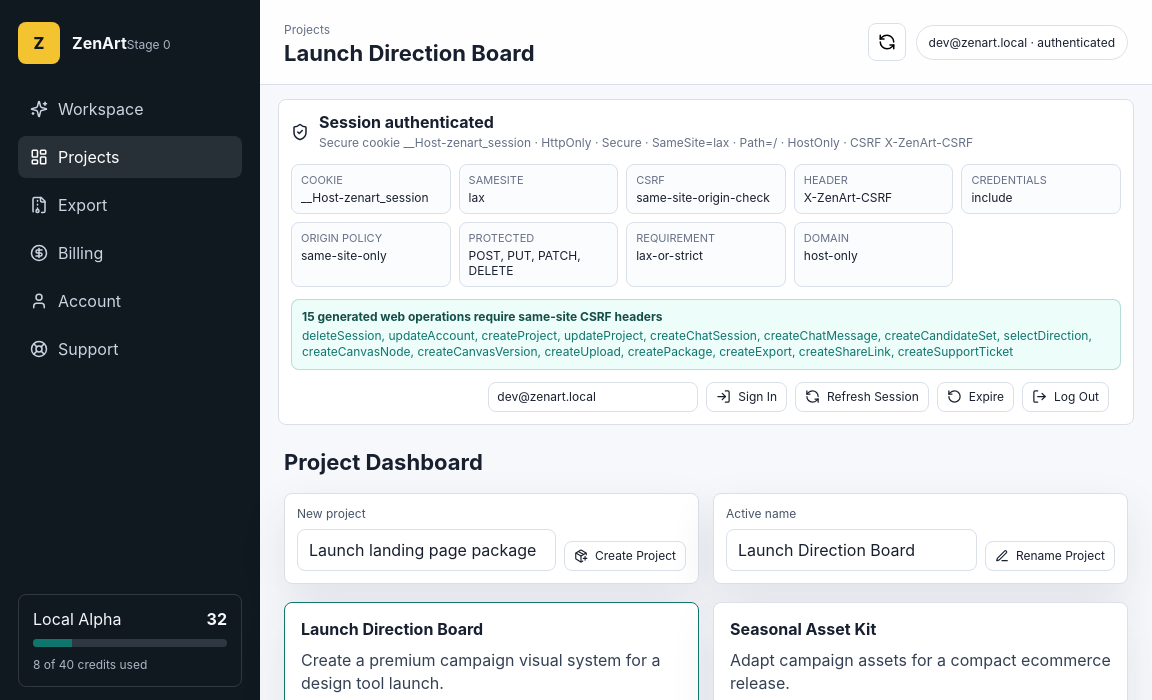
Test: WorkspaceApp user route integration smoke › guards project create and rename actions with the same-site session contract
Expected: the heading "Project Dashboard" is shown, [284, 449, 483, 475]
Replace the text in the field labelled "New project" with "Retail launch assets" at (426, 550), box [297, 529, 556, 571]
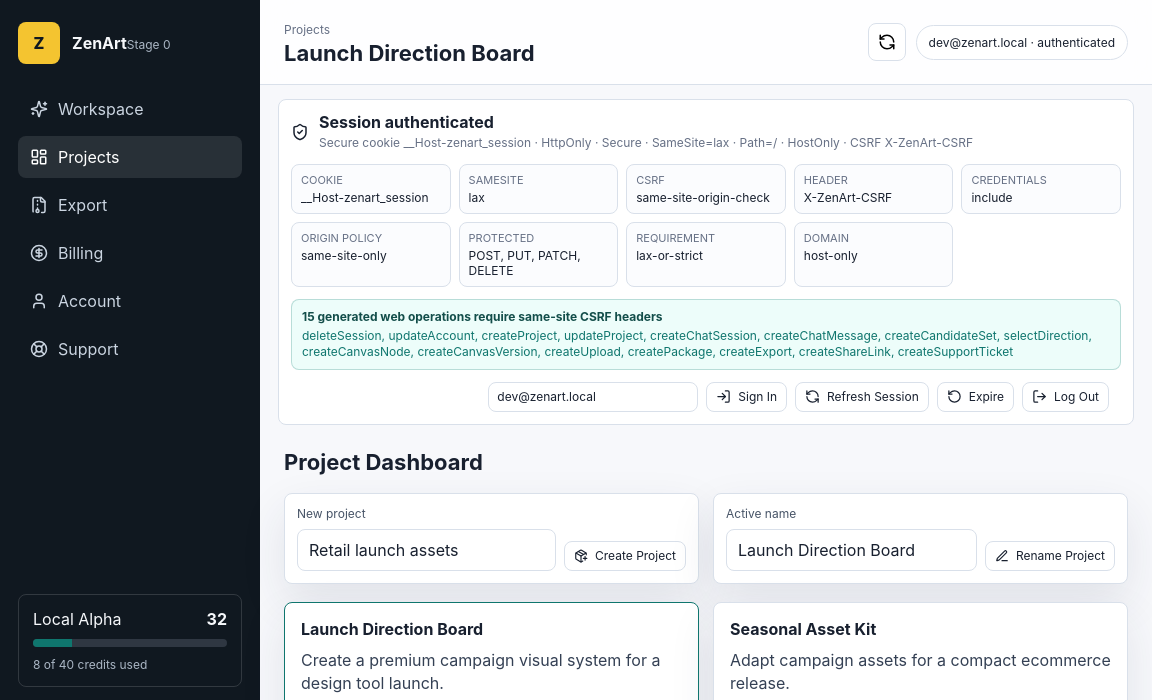
Click the button "Create Project" at (625, 556), box [564, 541, 686, 571]
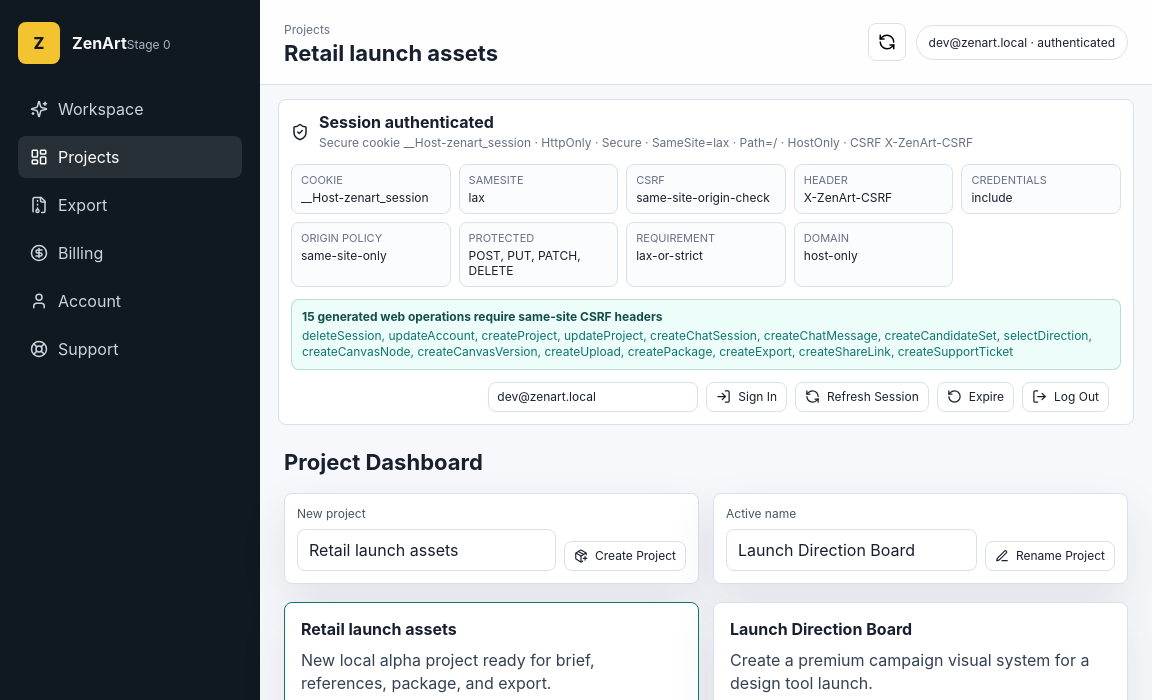
Expected: the number of headings "Retail launch assets" is 2, [284, 40, 498, 66]; [301, 619, 457, 639]
Now the heading "Retail launch assets" is shown, box [284, 40, 498, 66]
Replace the text in the field labelled "Active name" with "Retail launch renamed" at (851, 550), box [726, 529, 977, 571]
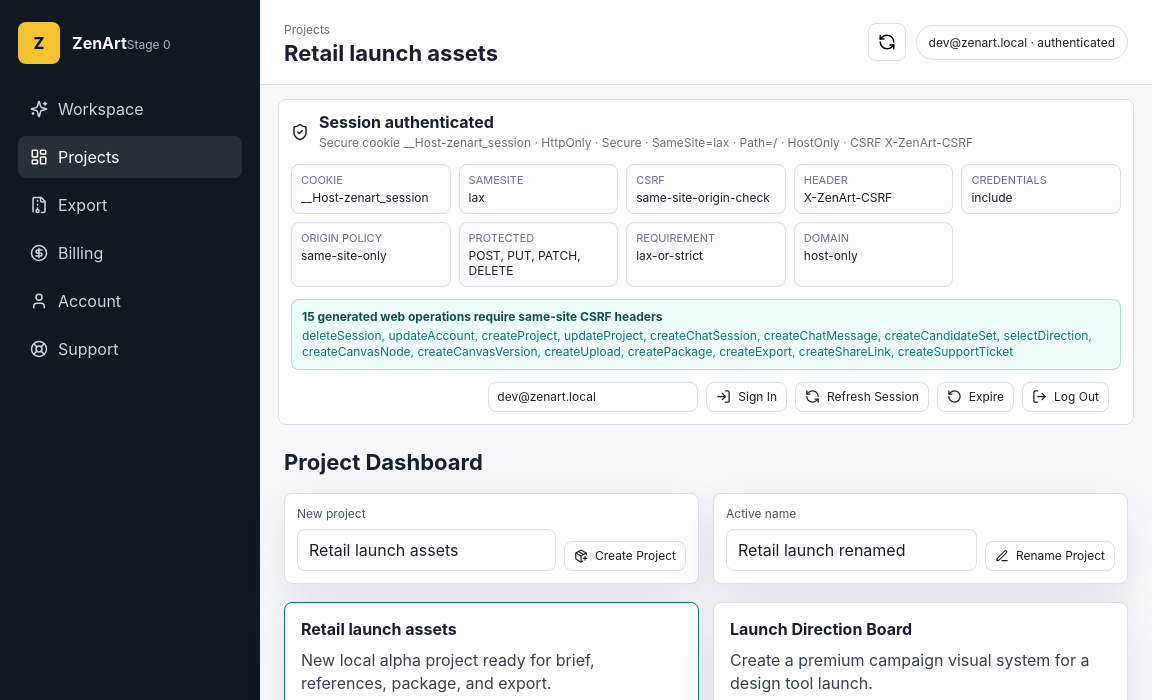
Click the button "Rename Project" at (1050, 556), box [985, 541, 1115, 571]
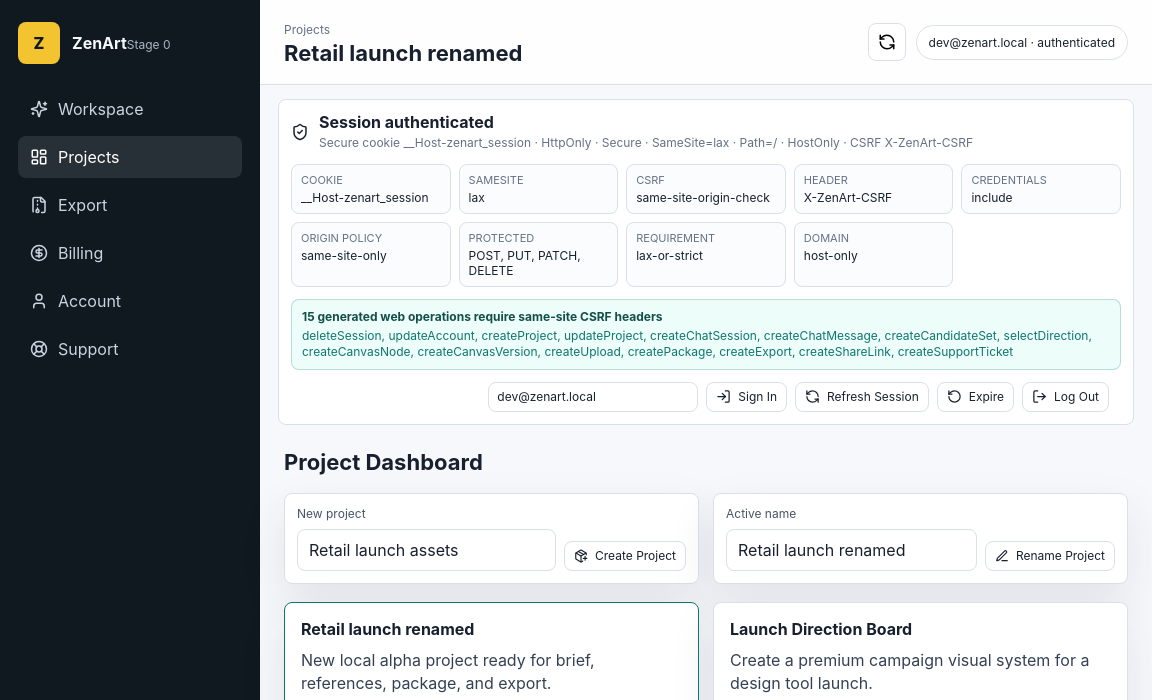
Expected: the number of headings "Retail launch renamed" is 2, [284, 40, 522, 66]; [301, 619, 474, 639]
Now the heading "Retail launch renamed" is shown, box [284, 40, 522, 66]
Click the button "Expire" at (975, 397), box [937, 382, 1014, 412]
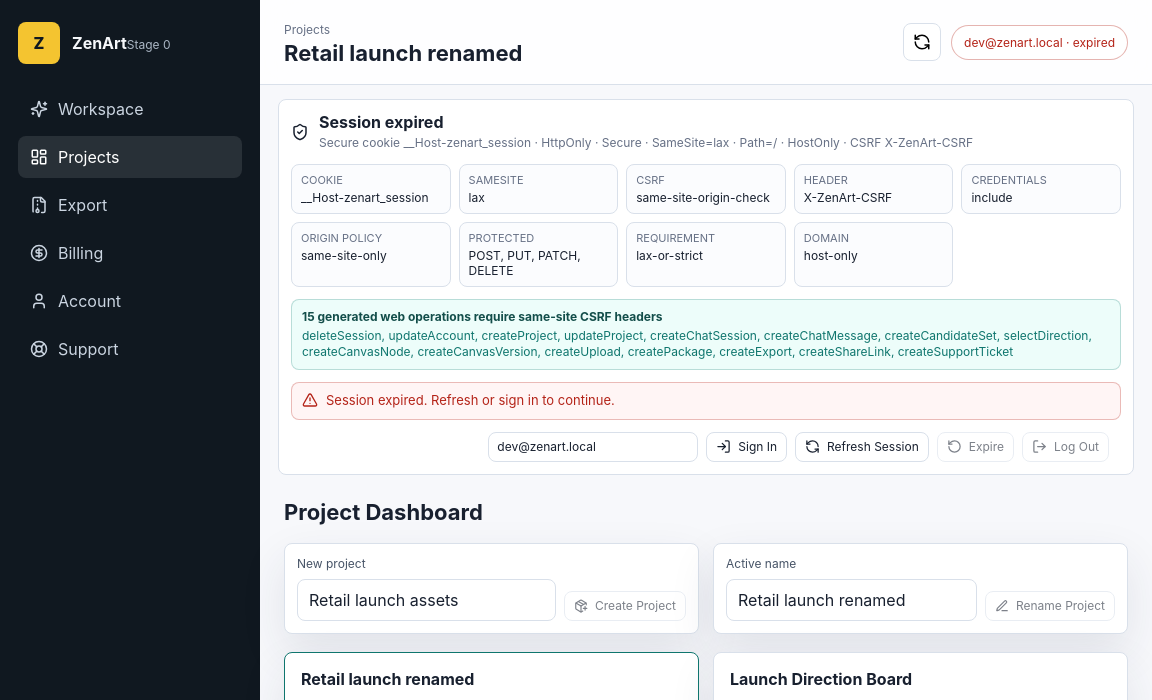
Now the text "Session expired. Refresh or sign in to continue." is shown, box [326, 392, 615, 410]
Now the button "Create Project" is disabled, box [564, 590, 686, 620]
Now the button "Rename Project" is disabled, box [985, 590, 1115, 620]
